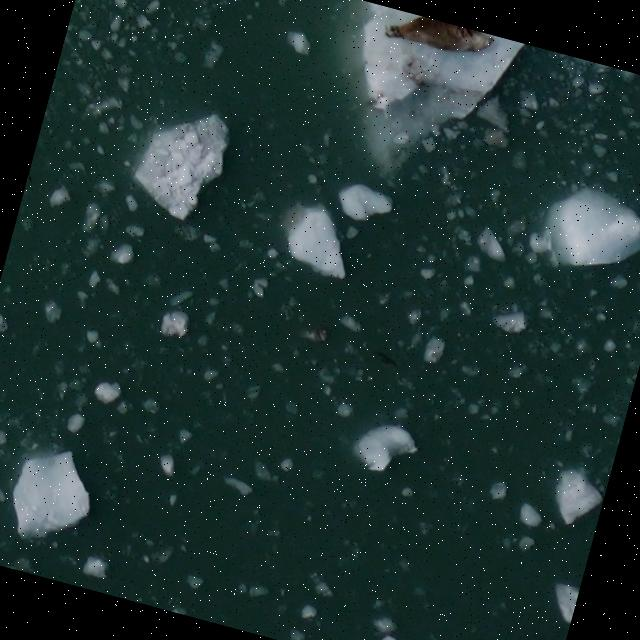seal: (378, 7, 499, 70)
